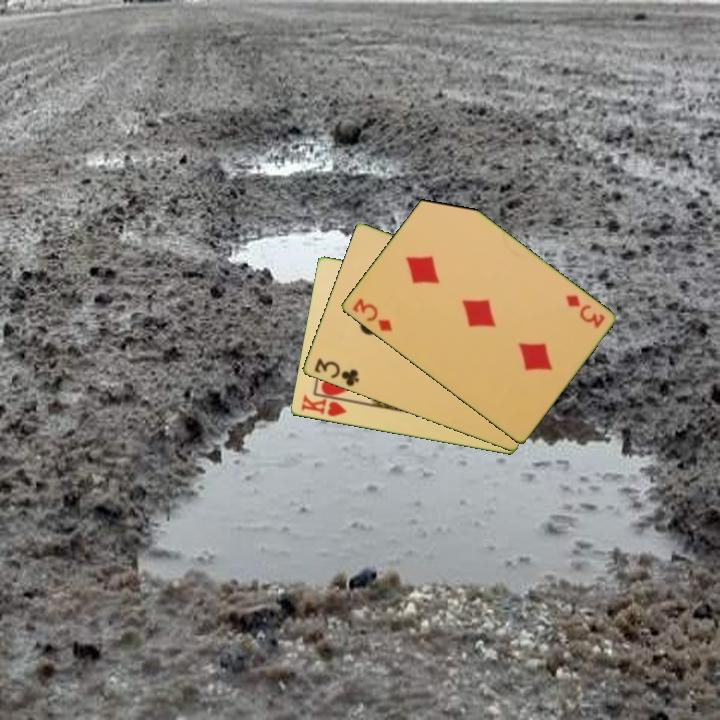3c: (310, 354, 362, 390)
3d: (348, 295, 395, 335), (562, 291, 608, 331)
Kh: (297, 391, 355, 420)
